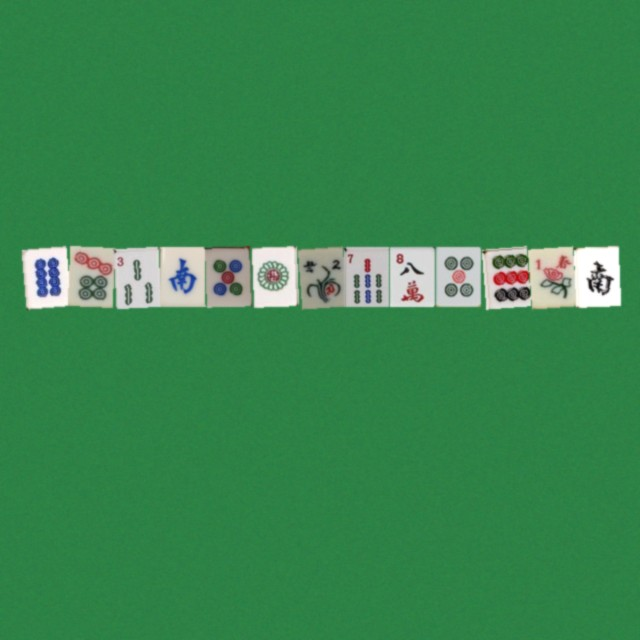tile: (21, 246, 66, 306), (67, 246, 112, 306), (113, 246, 158, 306), (159, 246, 204, 306), (205, 246, 250, 306), (251, 246, 296, 306), (297, 246, 342, 306), (343, 246, 388, 306), (389, 246, 434, 306), (435, 246, 480, 306), (481, 246, 526, 306), (527, 246, 572, 306), (573, 246, 618, 306)
